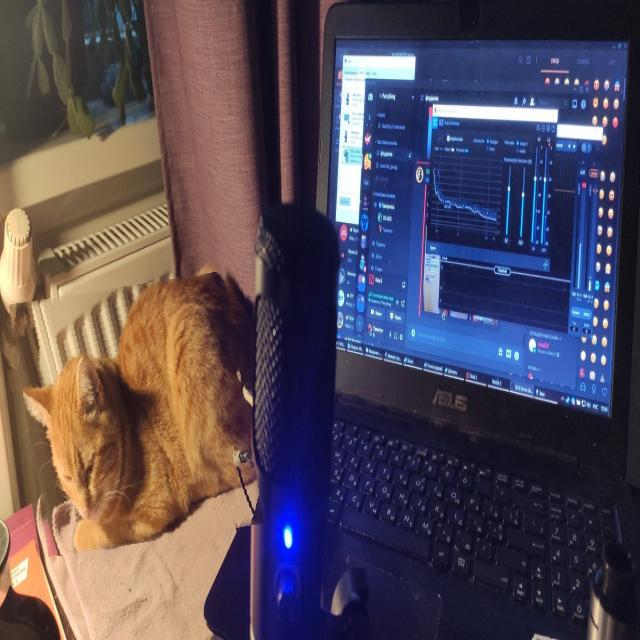red_cat: (18, 279, 255, 549)
